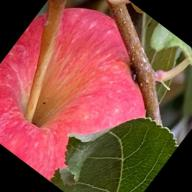Apples: (0, 0, 181, 192)
